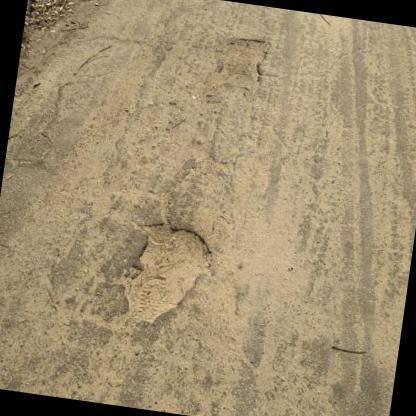pothole: (112, 211, 218, 334), (209, 30, 272, 94)
